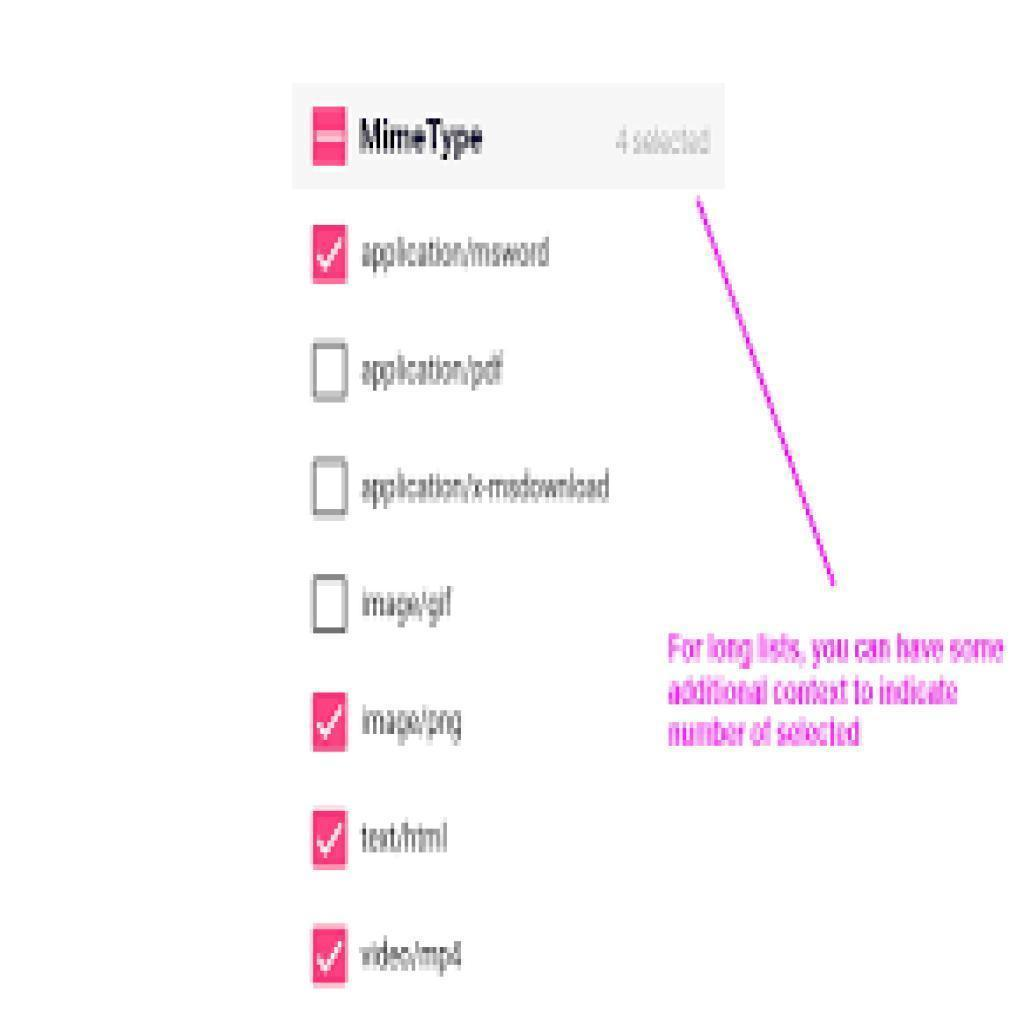checkbox: (312, 341, 349, 399), (313, 224, 346, 286), (313, 691, 346, 751), (312, 811, 347, 867), (313, 575, 349, 629), (314, 929, 347, 985), (316, 459, 348, 514)
